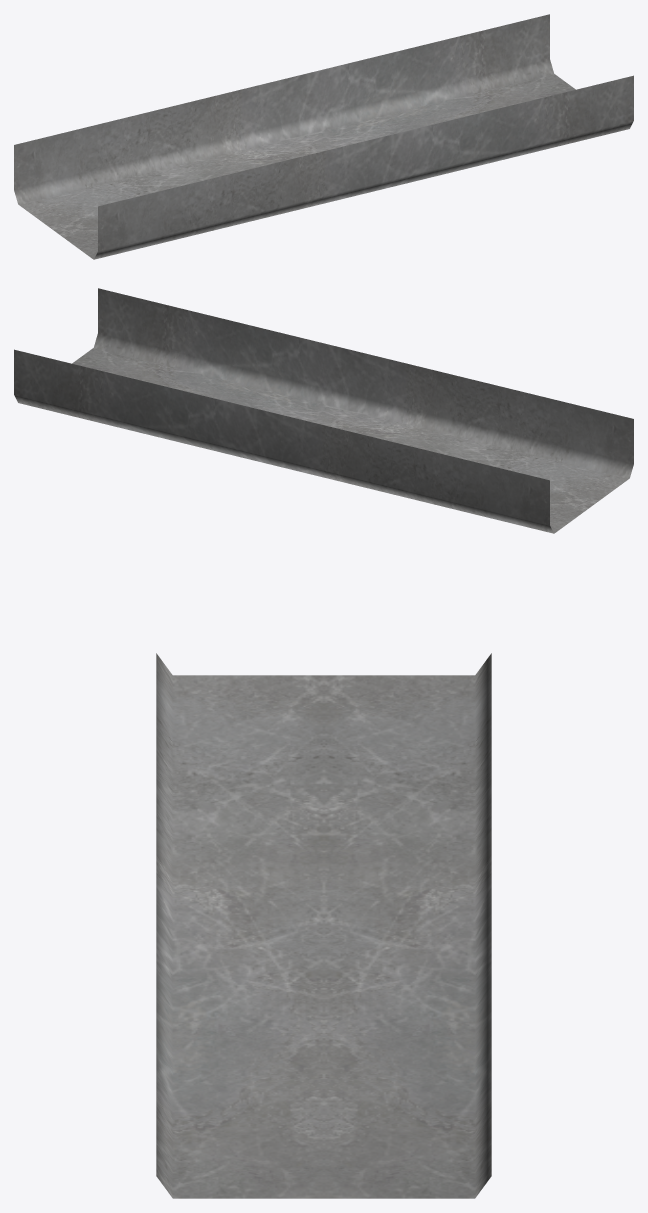
The model's file is Psychiatric_Ward_Infirmary_Ceiling_Beam_2m.glb.
3 renders of one model, top to bottom at view 1: azimuth 30°, elevation 25°; view 2: azimuth 150°, elevation 25°; view 3: azimuth 270°, elevation 25°, orthographic. The views are drawn at different scales.
Visible parts, largest first — view 1: Psychiatric_Ward_Infirmary_Ceiling_Beam_2m; view 2: Psychiatric_Ward_Infirmary_Ceiling_Beam_2m; view 3: Psychiatric_Ward_Infirmary_Ceiling_Beam_2m.
Part boxes in pixels (box(x1,y1,x2,y2)): Psychiatric_Ward_Infirmary_Ceiling_Beam_2m: box(14, 14, 633, 259); Psychiatric_Ward_Infirmary_Ceiling_Beam_2m: box(14, 288, 633, 533); Psychiatric_Ward_Infirmary_Ceiling_Beam_2m: box(156, 653, 491, 1198).
Size of the model in its own units: 2 by 0.2012 by 0.5421.
Materials: 1 (1 with a texture image).
